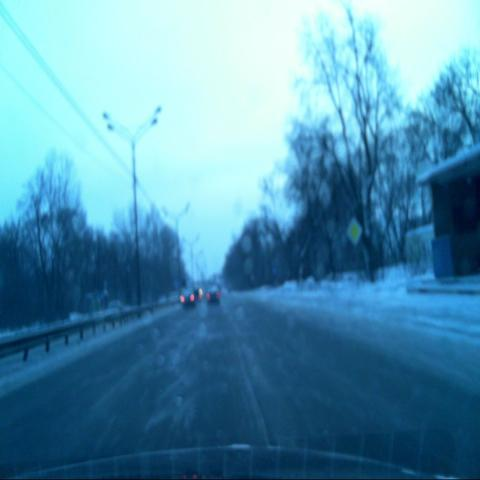2_1: (345, 217, 361, 243)
